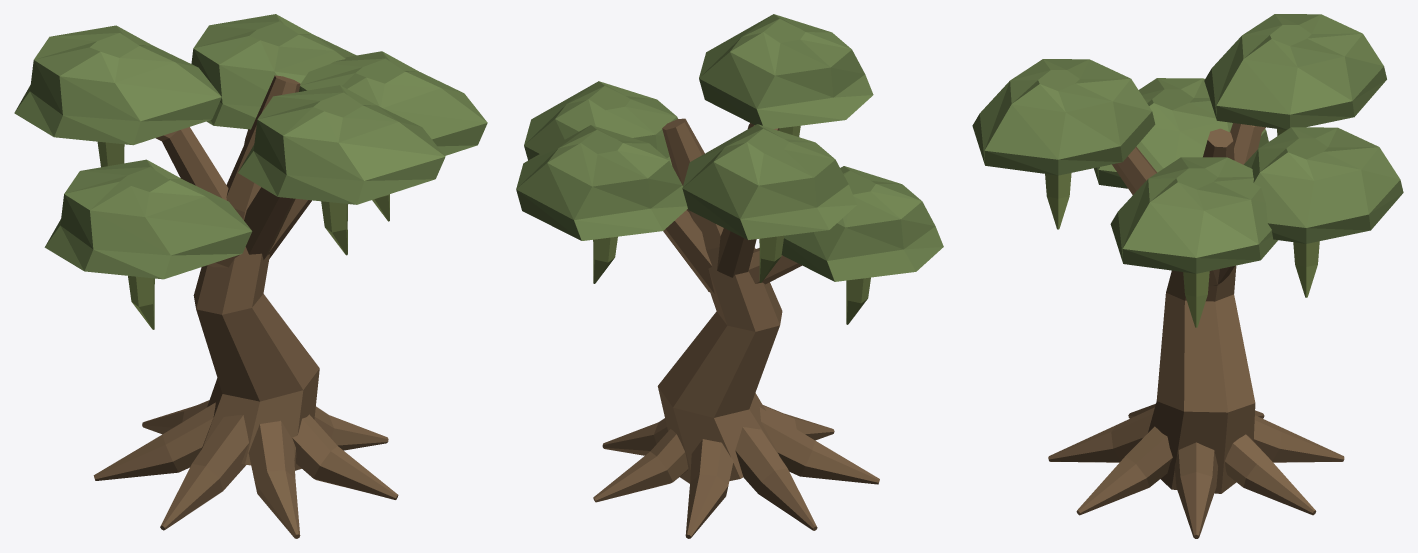
The model's file is swamp-tree.glb.
3 renders of one model, left to right at view 1: azimuth 30°, elevation 25°; view 2: azimuth 150°, elevation 25°; view 3: azimuth 270°, elevation 25°, orthographic. The views are drawn at different scales.
Parts seen in each view (by area): view 1: swamp-tree; view 2: swamp-tree; view 3: swamp-tree.
Boxes of the visible parts, x1,y1,x2,y2 form: swamp-tree: [14, 14, 487, 538]; swamp-tree: [516, 14, 943, 538]; swamp-tree: [972, 14, 1403, 538].
Size of the model in its own units: 3.81 by 3.72 by 3.58.
